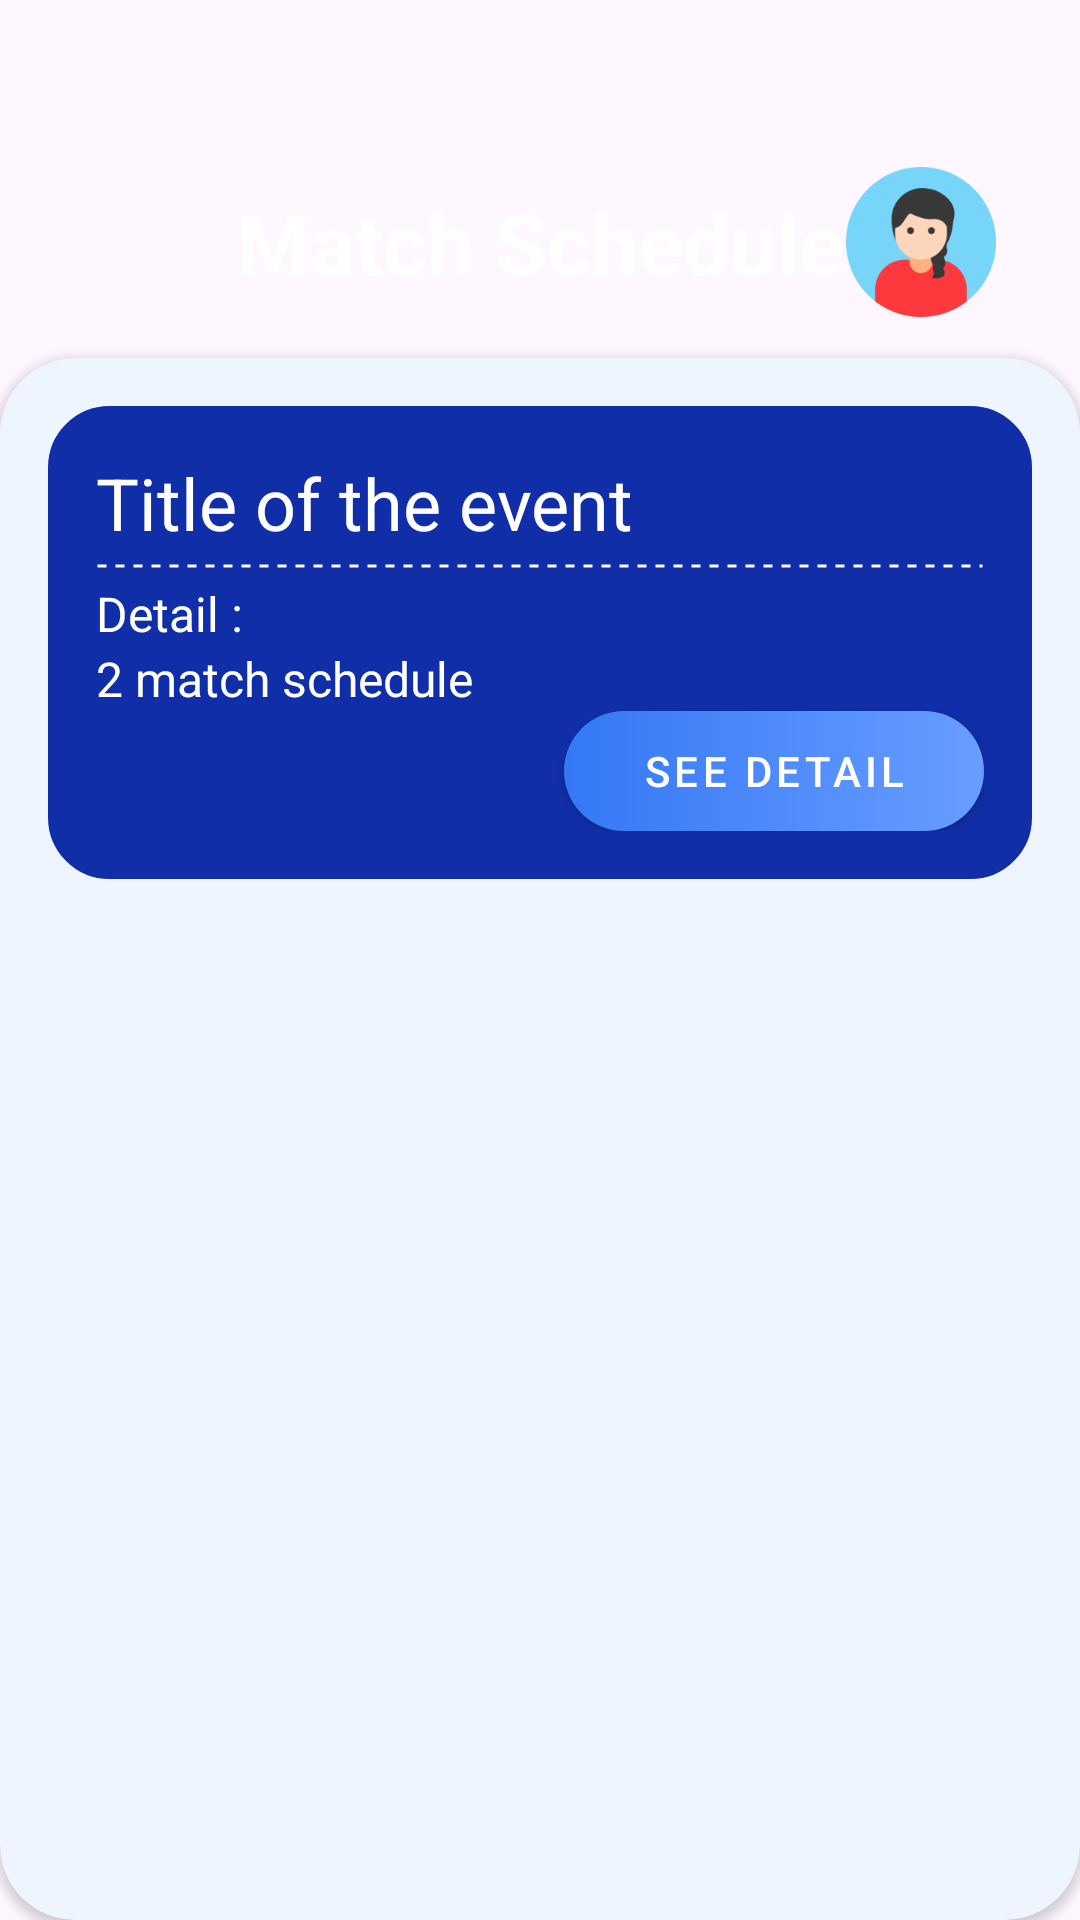

Point at icon controls on the screen. Image size 1080 × 1920, points as (x,y).
userprofile: (921,242)
